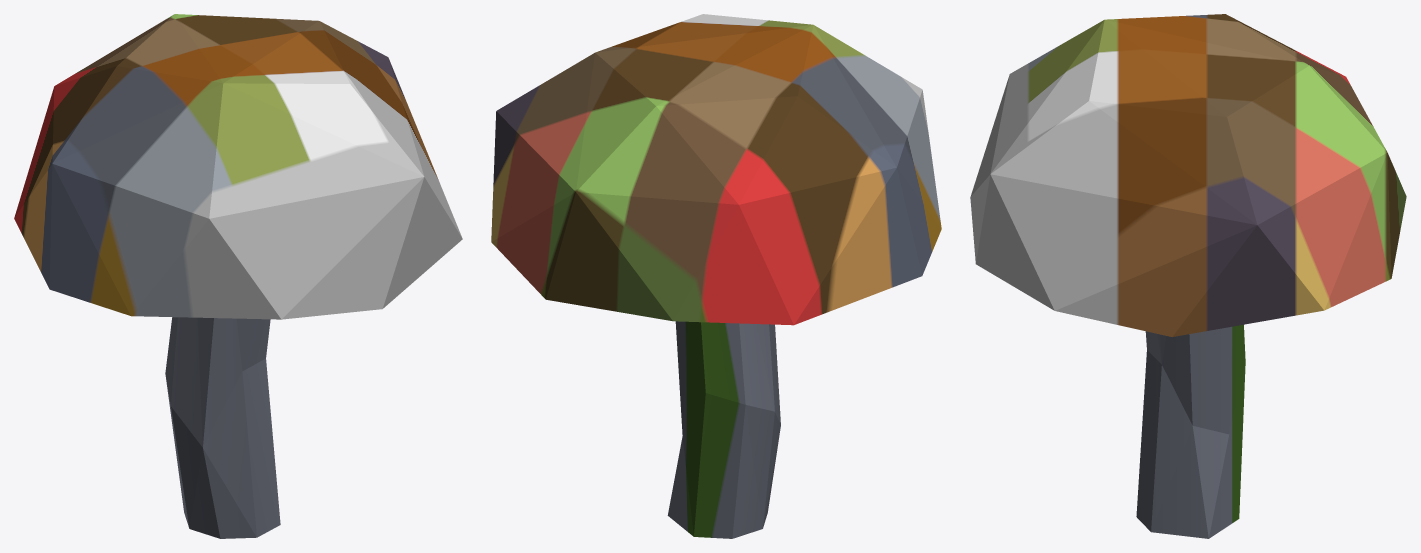
File: Mushroom_11.fbx
3 views of the same model, side by side, from view 1: azimuth 30°, elevation 25°; view 2: azimuth 150°, elevation 25°; view 3: azimuth 270°, elevation 25° (orthographic).
Parts seen in each view (by area): view 1: Mushroom_11; view 2: Mushroom_11; view 3: Mushroom_11.
Boxes of the visible parts, x1,y1,x2,y2 form: Mushroom_11: [14, 14, 462, 538]; Mushroom_11: [491, 14, 941, 538]; Mushroom_11: [970, 14, 1406, 538].
Size of the model in its own units: 0.5019 by 0.598 by 0.499.
